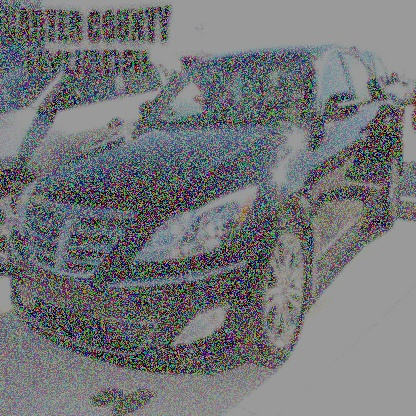Vehicle: (9, 47, 402, 375)
